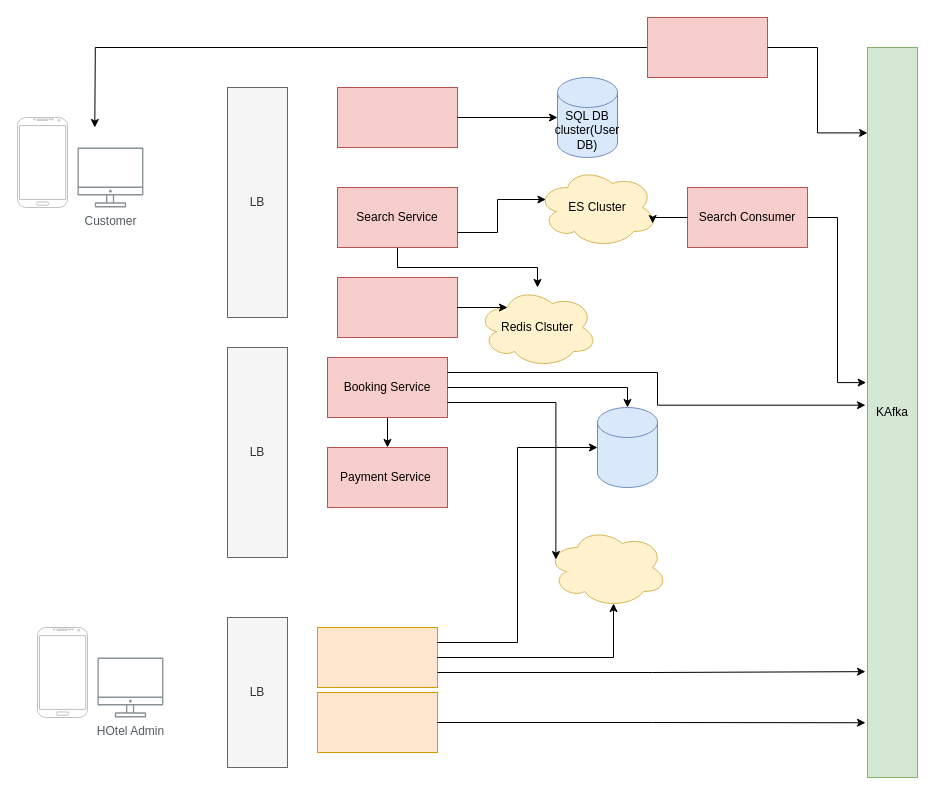
Image size: 935x795. Some labels were removed from this diagram. Here are the shapes that lost their labels. From the top down, the box of each, then its label:
(646, 16, 768, 78): Notification Service
(336, 86, 458, 148): User Service
(336, 276, 458, 338): Review Service
(596, 406, 658, 488): SQL DB cluster
(546, 526, 668, 608): Redis Cluster
(316, 626, 438, 688): Reservation Service
(316, 692, 438, 752): Hotel Service
